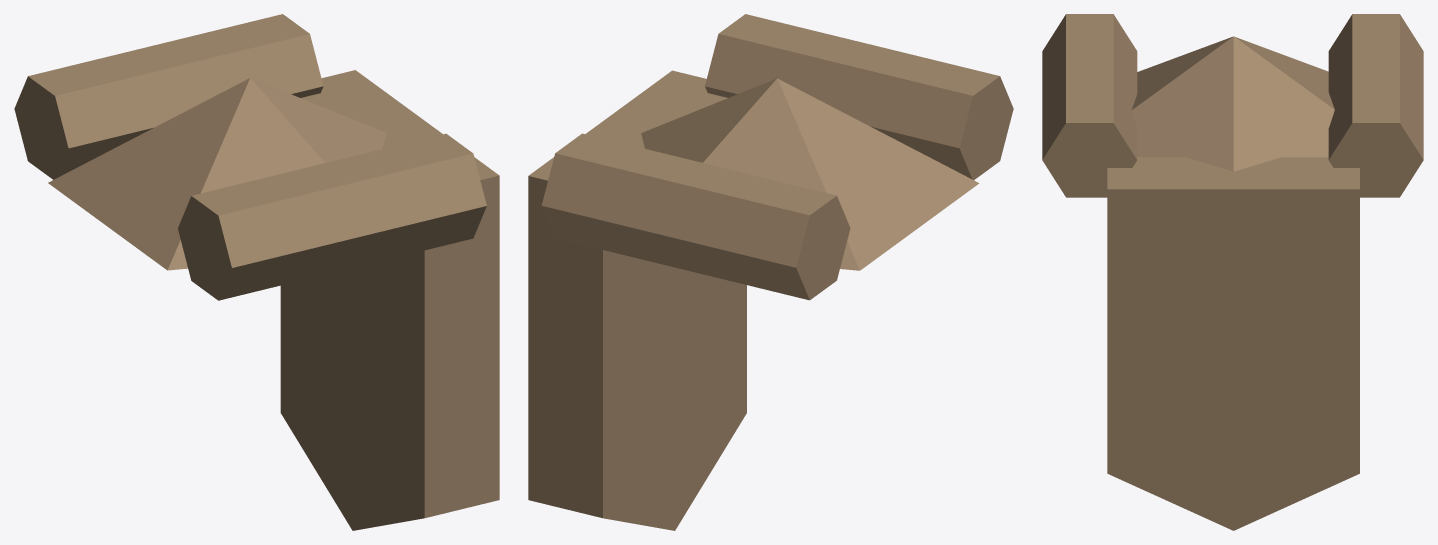
The model's file is Kl3pHat.fbx.
3 renders of one model, left to right at view 1: azimuth 30°, elevation 25°; view 2: azimuth 150°, elevation 25°; view 3: azimuth 270°, elevation 25°, orthographic. The views are drawn at different scales.
Parts seen in each view (by area): view 1: Cylinder; view 2: Cylinder; view 3: Cylinder.
Part boxes in pixels (x1,y1,x2,y2): Cylinder: (14, 14, 499, 530); Cylinder: (528, 14, 1013, 530); Cylinder: (1042, 14, 1423, 530).
Bounding box in the file's own units: 162 × 232 × 191.
